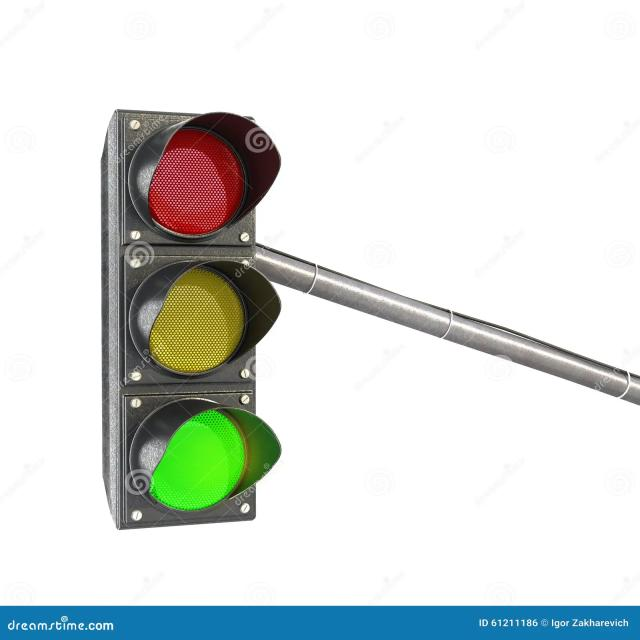green: (125, 400, 251, 516)
